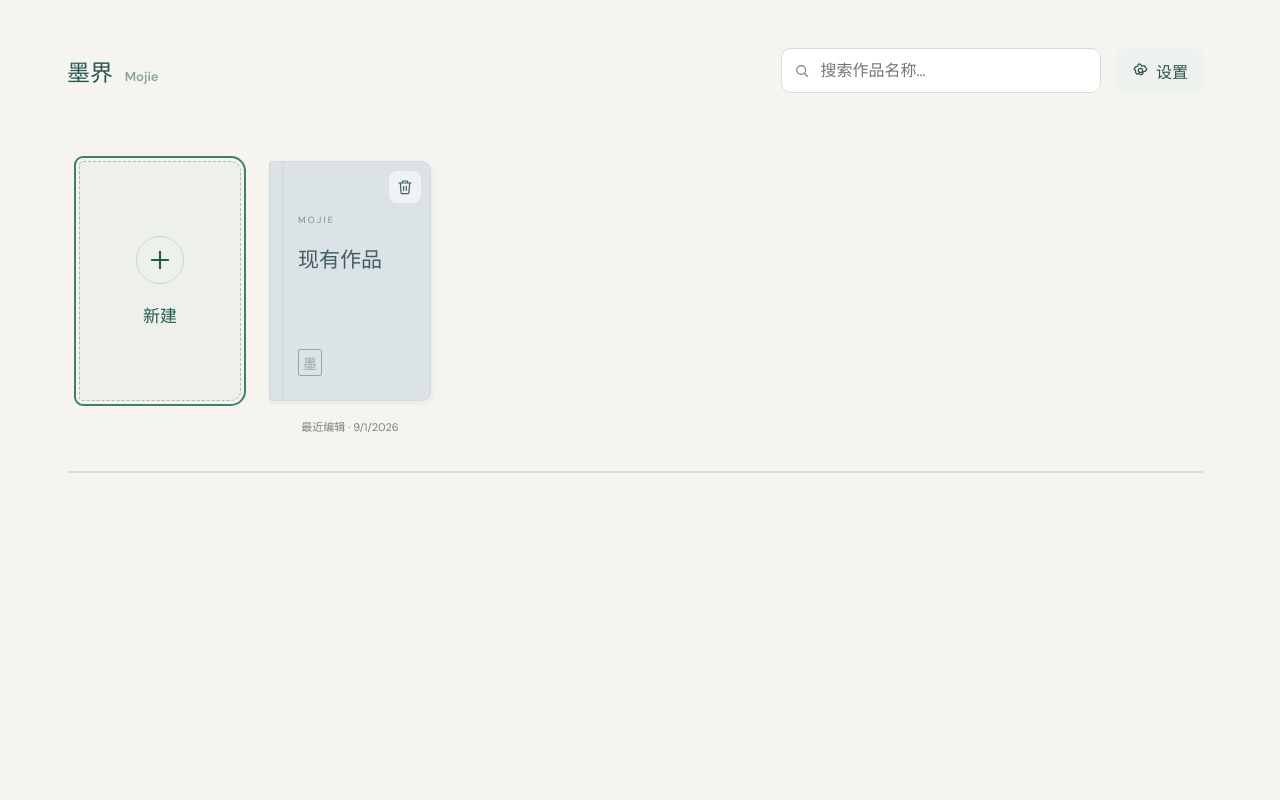
cancelling creation restores focus and does not send a write
This screenshot has width=1280, height=800.
Expected: the text "现有作品" is shown, [298,244,382,278]
Click the button named "新建作品".
click(160, 281)  # box [79,161,241,401]
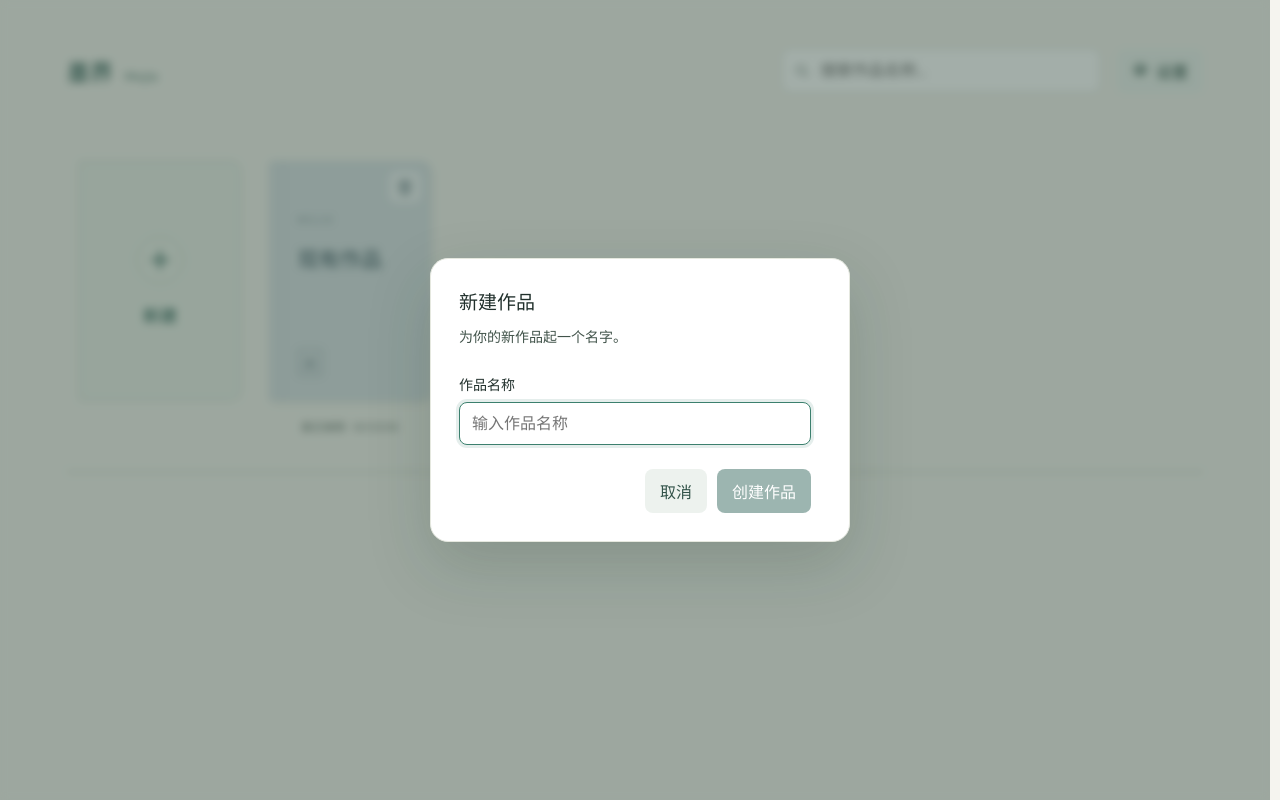
Press Escape
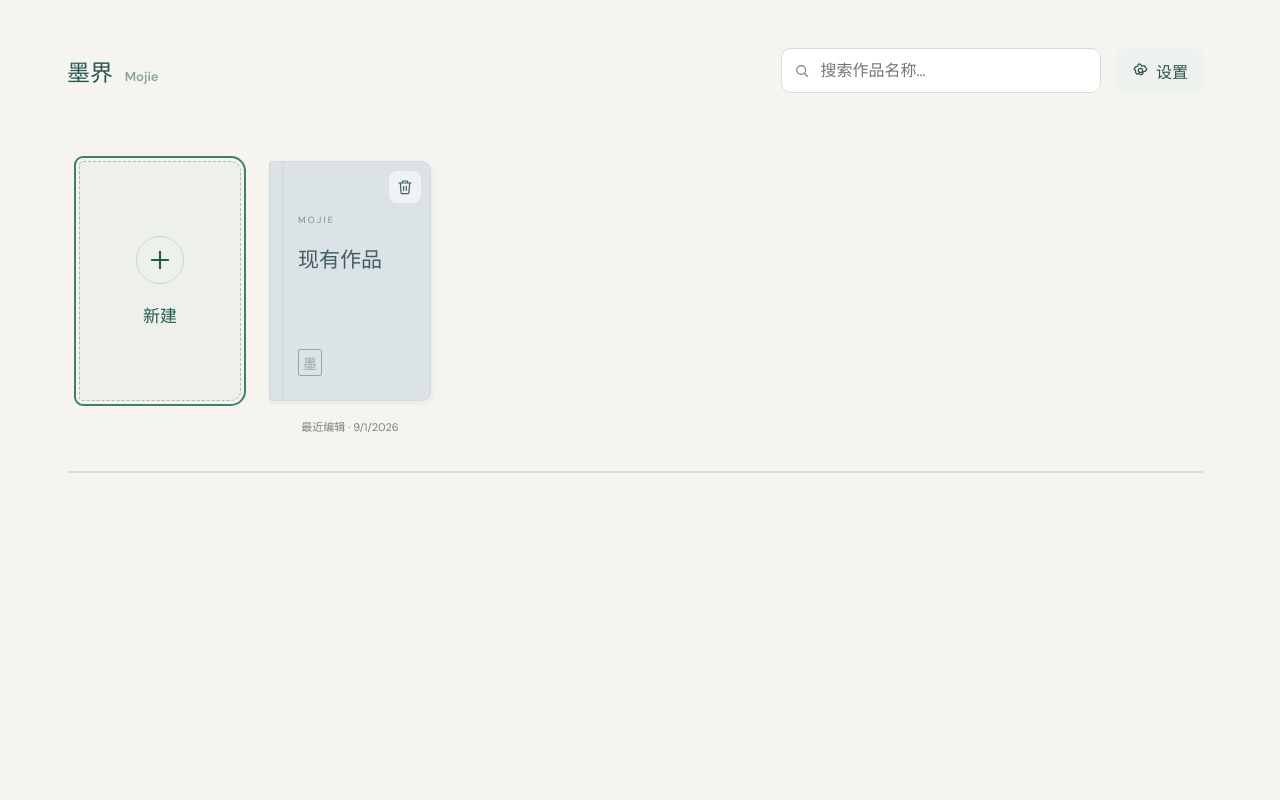
Result: the dialog is gone
